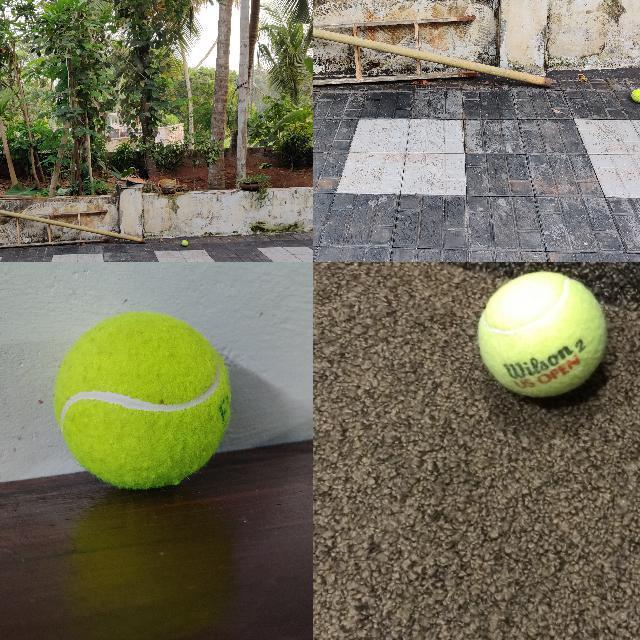tennis-ball: (54, 311, 231, 489), (476, 270, 608, 400), (630, 88, 639, 102), (181, 240, 188, 246)
